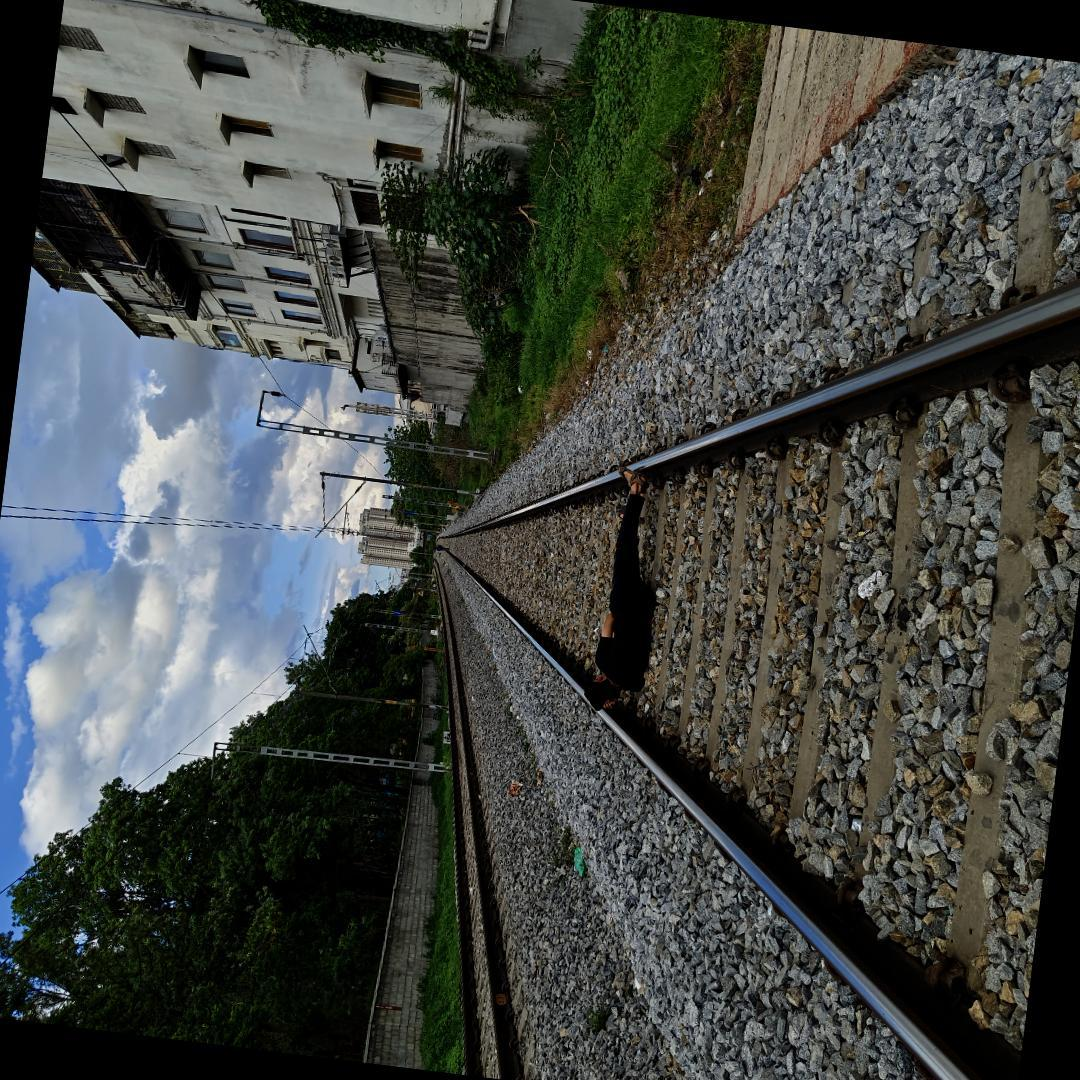sleeping: (564, 456, 680, 731)
